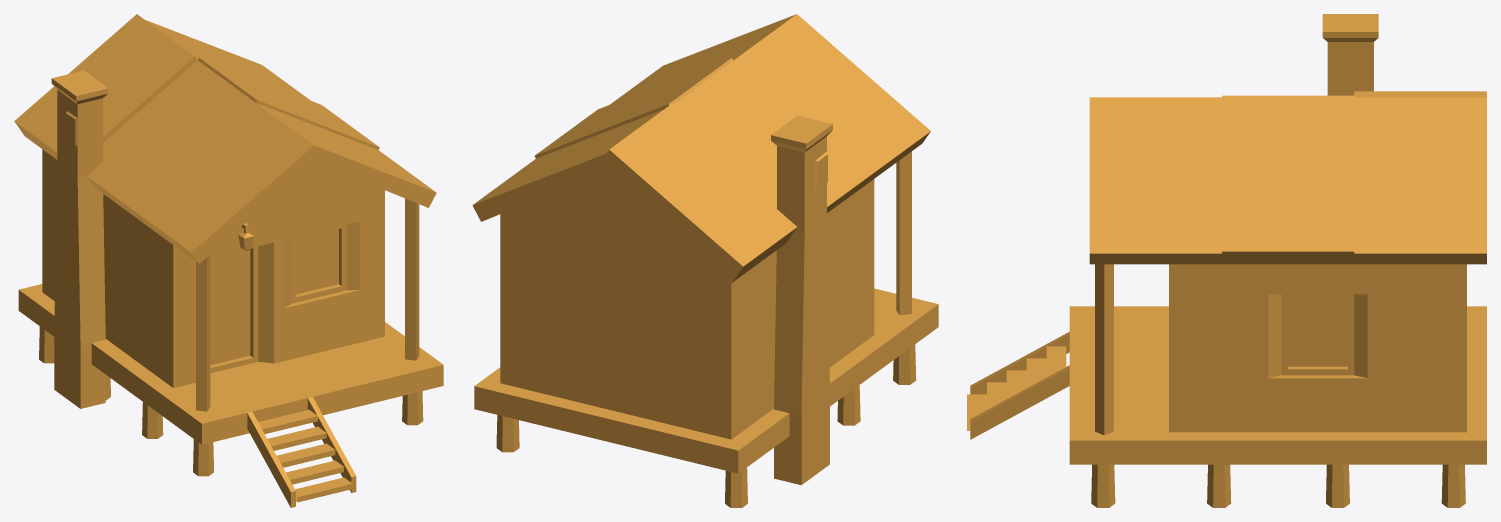
The model's file is building-cabin-small.fbx.
3 renders of one model, left to right at view 1: azimuth 30°, elevation 25°; view 2: azimuth 150°, elevation 25°; view 3: azimuth 270°, elevation 25°, orthographic. The views are drawn at different scales.
Parts seen in each view (by area): view 1: building-cabin-small; view 2: building-cabin-small; view 3: building-cabin-small.
Part boxes in pixels (left/top/right/bottom): building-cabin-small: left=14, top=14, right=443, bottom=507; building-cabin-small: left=472, top=14, right=938, bottom=507; building-cabin-small: left=967, top=14, right=1486, bottom=507.
Size of the model in its own units: 4.38 by 5.05 by 6.67.
